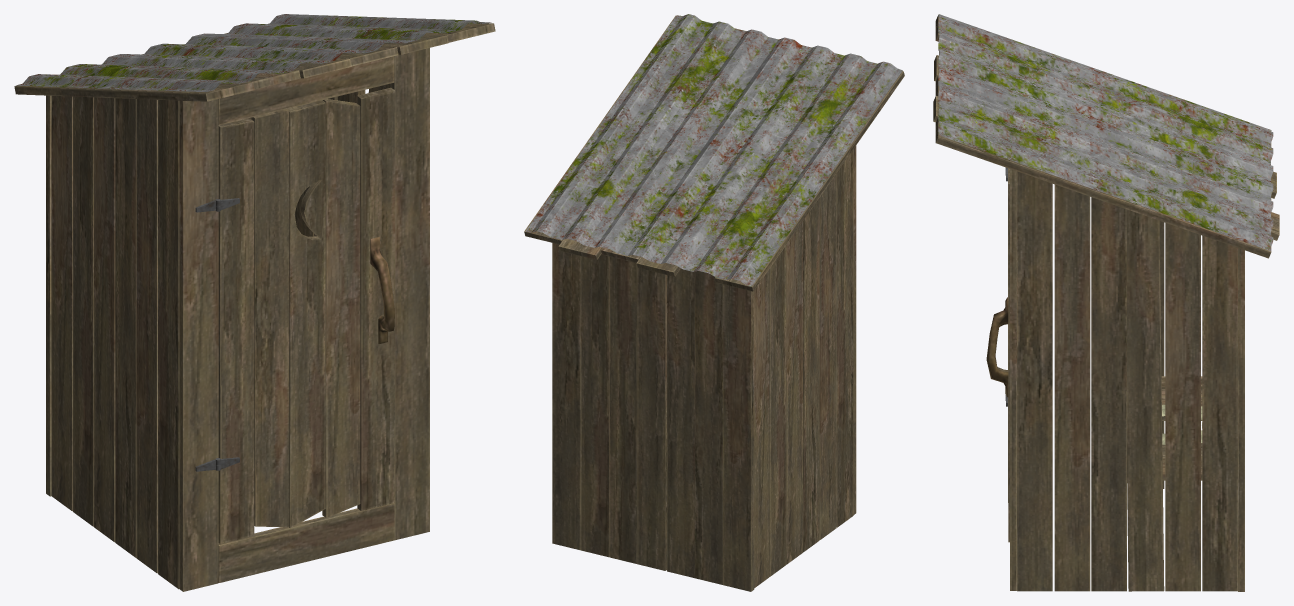
File: outhouse.fbx
3 views of the same model, side by side, from view 1: azimuth 30°, elevation 25°; view 2: azimuth 150°, elevation 25°; view 3: azimuth 270°, elevation 25° (orthographic). The views are drawn at different scales.
Parts seen in each view (by area): view 1: Outhouse, Door, Roof, hinges; view 2: Outhouse, Roof; view 3: Outhouse, Roof, Door.
Boxes of the visible parts, bbox=[...] form: Outhouse: bbox=[46, 48, 429, 591]; Door: bbox=[218, 87, 395, 543]; Roof: bbox=[14, 14, 495, 101]; hinges: bbox=[195, 198, 239, 471]; Outhouse: bbox=[552, 145, 856, 591]; Roof: bbox=[524, 14, 904, 291]; Outhouse: bbox=[1010, 169, 1244, 591]; Roof: bbox=[933, 14, 1279, 258]; Door: bbox=[986, 168, 1009, 542].
Size of the model in its own units: 122 by 218 by 146.
Materials: 1 (1 with a texture image).
